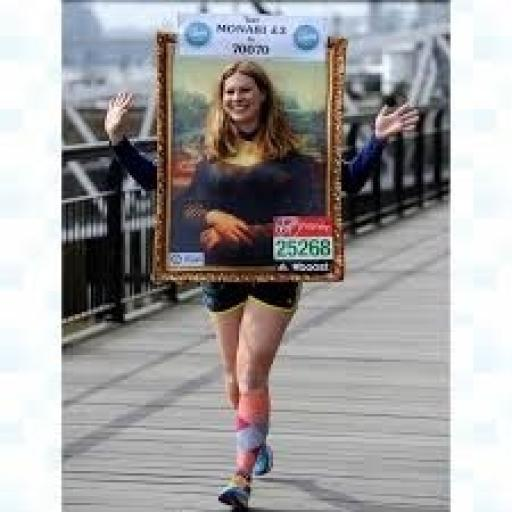running: (100, 57, 423, 510)
